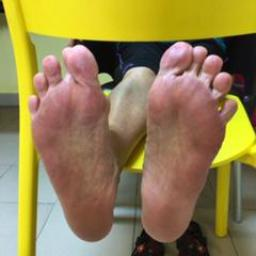Plantar View -Both Feet-: (10, 20, 248, 251)
